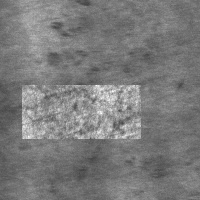crazing: (22, 85, 141, 139)
rolled-in_scale: (47, 22, 120, 136), (71, 148, 173, 184)
